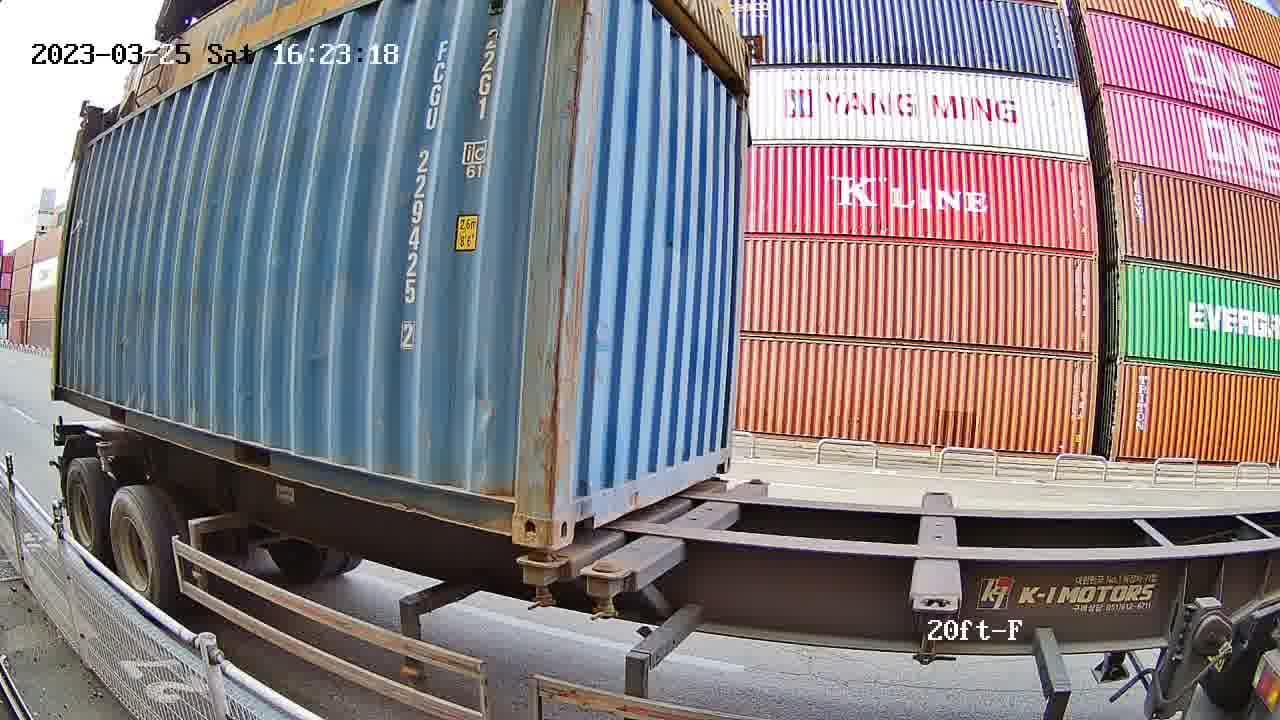Chassis: (581, 481, 767, 589), (549, 479, 727, 563)
Cone: (584, 562, 631, 619), (518, 550, 562, 608)
Hole_L: (550, 475, 598, 551)
Hole_R: (485, 472, 553, 549), (711, 432, 733, 475)
Tire: (112, 491, 162, 608), (67, 464, 103, 558)
